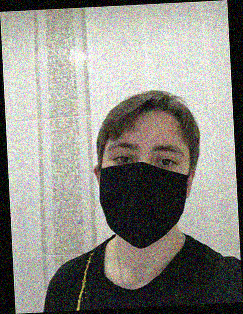with_mask: (98, 126, 189, 249)
